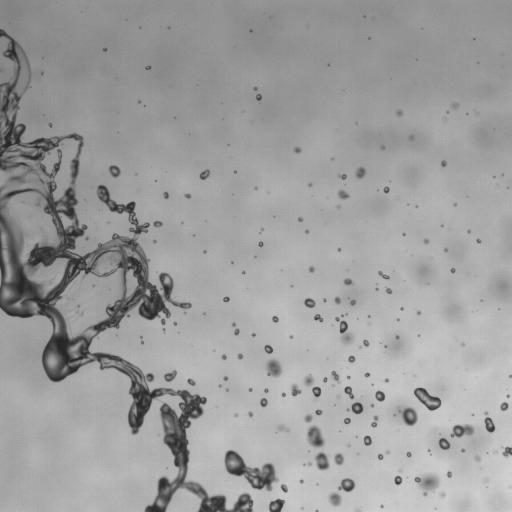droplet: (413, 387, 441, 410), (414, 473, 440, 496), (306, 425, 324, 447), (399, 407, 417, 425), (450, 424, 474, 437), (265, 359, 282, 377), (315, 452, 329, 470), (338, 478, 355, 492), (269, 498, 284, 511), (328, 492, 341, 506), (108, 165, 120, 177), (350, 402, 363, 413), (164, 370, 176, 381), (344, 386, 354, 399), (439, 438, 450, 449), (291, 384, 301, 396), (334, 453, 344, 465), (355, 167, 365, 178), (304, 298, 315, 308), (375, 390, 385, 401), (199, 169, 209, 179), (502, 446, 511, 457), (331, 371, 339, 383), (338, 190, 348, 199), (363, 435, 371, 445), (314, 314, 323, 322), (394, 475, 402, 484), (264, 345, 272, 353), (500, 402, 508, 410), (304, 414, 312, 422), (343, 278, 352, 285), (260, 398, 267, 407), (187, 378, 195, 385), (280, 484, 287, 492), (153, 221, 162, 227), (348, 355, 355, 362), (334, 296, 340, 304), (294, 147, 301, 153), (383, 186, 389, 193), (385, 287, 392, 293), (362, 340, 369, 346), (315, 409, 322, 415), (474, 455, 481, 461), (452, 102, 458, 108), (396, 110, 402, 116), (272, 316, 278, 322), (339, 174, 346, 179), (76, 311, 83, 316), (234, 328, 239, 335), (256, 94, 261, 100), (441, 160, 446, 166), (163, 192, 168, 198), (309, 266, 314, 272), (223, 296, 229, 301), (237, 353, 242, 359), (344, 418, 350, 423), (378, 453, 383, 459), (446, 471, 451, 477), (439, 492, 445, 497), (185, 193, 190, 198), (258, 241, 263, 246), (350, 300, 355, 305), (406, 452, 411, 457), (248, 411, 252, 417), (424, 239, 429, 243), (222, 354, 226, 359), (365, 372, 369, 377), (223, 376, 228, 380), (298, 217, 302, 221), (476, 239, 480, 243), (451, 268, 455, 272), (323, 377, 327, 381), (384, 378, 388, 382), (264, 388, 268, 392), (385, 450, 389, 454), (299, 479, 303, 483), (282, 392, 285, 397), (48, 122, 51, 126), (305, 230, 309, 233), (395, 335, 399, 338), (461, 448, 464, 452), (484, 479, 488, 482), (103, 48, 106, 51), (146, 66, 149, 69), (254, 87, 257, 90), (381, 146, 384, 149), (308, 183, 311, 186), (417, 311, 420, 314), (173, 322, 176, 325), (252, 333, 255, 336), (290, 335, 293, 338), (461, 343, 464, 346), (249, 388, 252, 391), (308, 462, 311, 465), (454, 203, 456, 206), (337, 205, 339, 208), (467, 230, 470, 232), (402, 233, 405, 235), (338, 248, 340, 251), (444, 249, 447, 251), (242, 271, 245, 273), (323, 299, 326, 301), (232, 323, 235, 325), (162, 329, 165, 331), (509, 374, 511, 377), (506, 395, 509, 397), (234, 414, 237, 416), (399, 469, 401, 472), (380, 505, 383, 507), (410, 137, 412, 139), (86, 237, 88, 239), (154, 240, 156, 242), (401, 307, 403, 309), (371, 404, 373, 406)
ligament: (0, 29, 253, 511), (225, 450, 279, 491), (335, 317, 353, 344), (303, 374, 321, 399), (484, 412, 495, 432), (378, 271, 389, 279), (371, 415, 378, 427), (278, 425, 288, 431), (0, 185, 4, 192), (0, 64, 3, 72), (354, 509, 360, 511), (315, 510, 318, 511)
